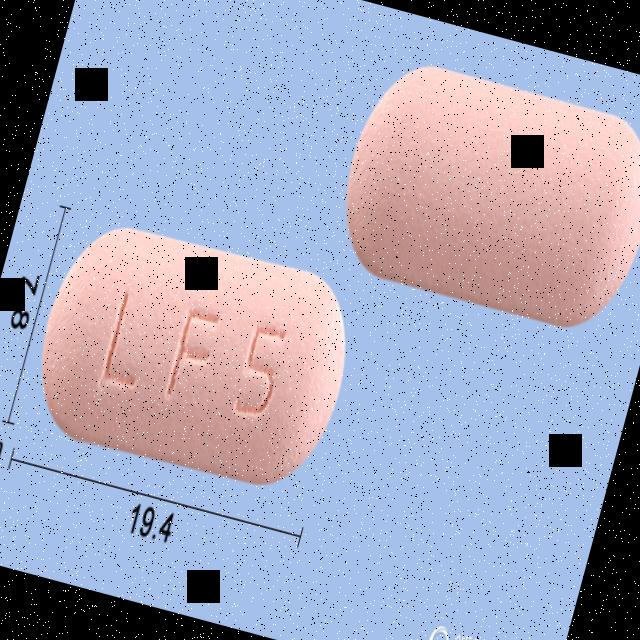Uropenta Tab: (21, 210, 368, 501)
